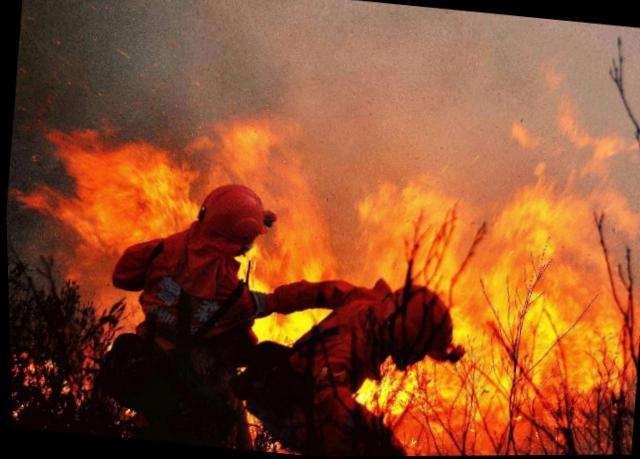fire: (21, 59, 639, 458)
